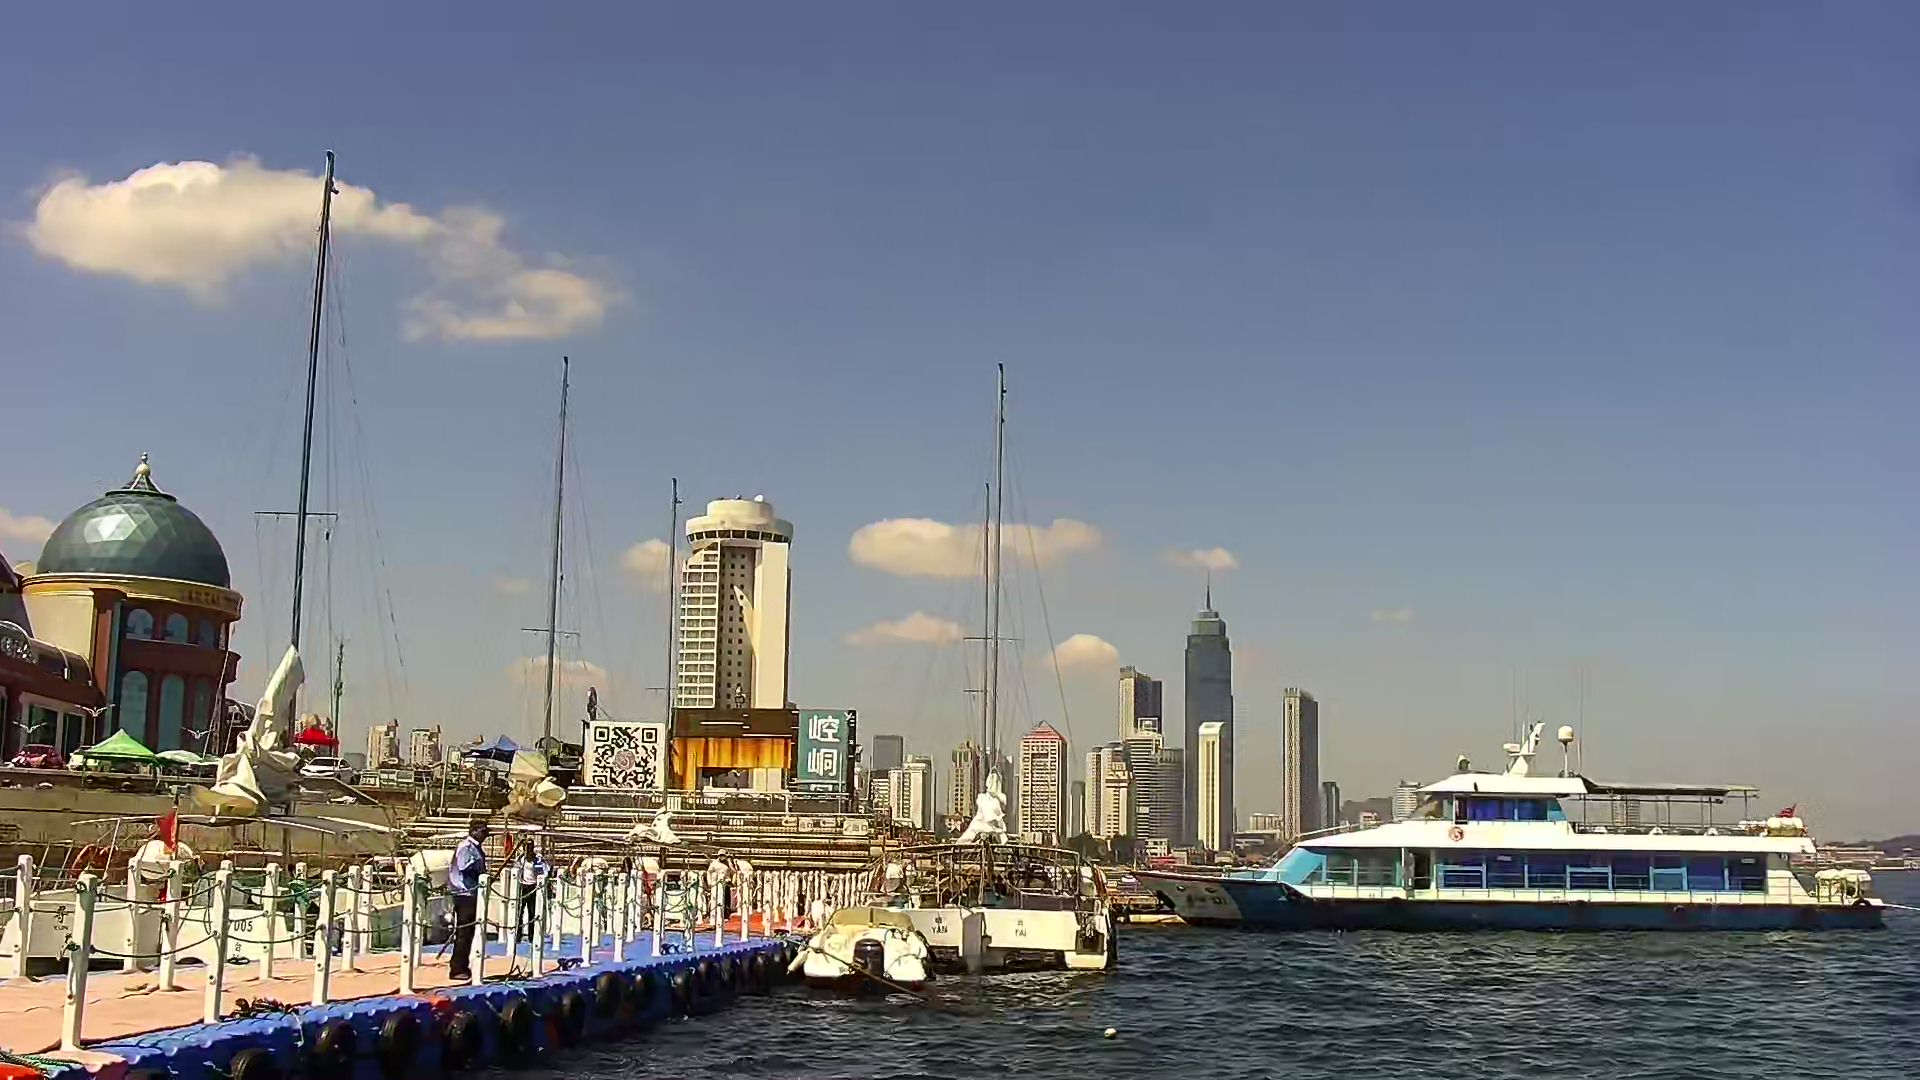boat: (8, 140, 452, 972), (832, 356, 1117, 972), (811, 909, 938, 1007)
harbor: (1, 852, 798, 1077)
ship: (1118, 704, 1895, 934)
